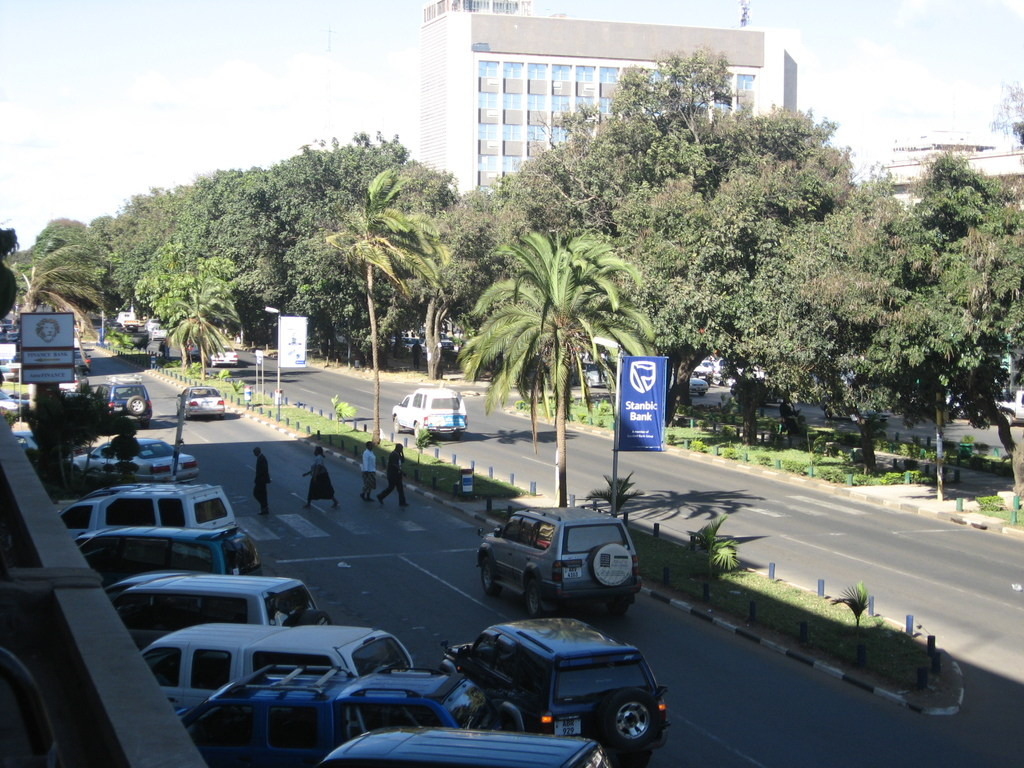Car: (438, 616, 664, 767), (181, 664, 506, 767), (147, 623, 419, 714), (106, 571, 337, 657), (478, 509, 640, 622), (73, 519, 262, 597), (311, 726, 620, 767), (56, 480, 247, 540), (69, 438, 199, 489), (391, 386, 471, 442), (684, 353, 754, 398), (85, 382, 151, 424), (175, 382, 227, 422), (568, 360, 615, 391), (0, 386, 32, 417), (209, 340, 238, 370), (69, 348, 93, 368), (61, 373, 80, 398), (188, 343, 211, 360), (147, 325, 168, 341), (144, 319, 160, 328)
